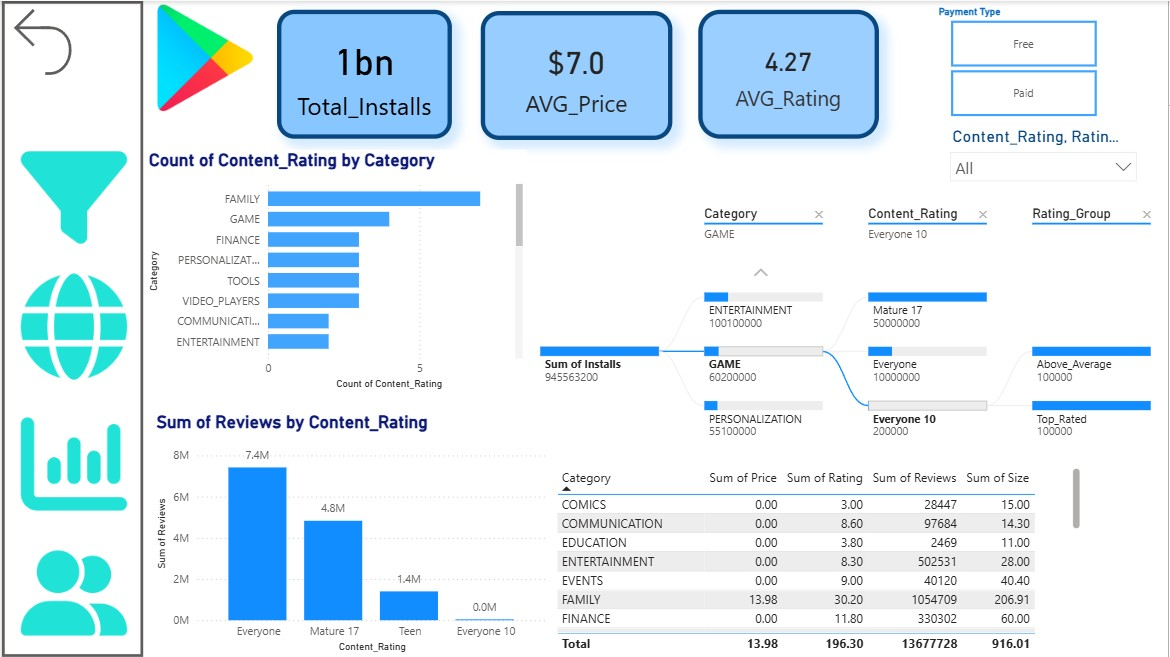

The dashboard page shown, as its layout file describes it:
{"tool":"powerbi","page":{"name":"Page 1","canvas":[1280,720],"ordinal":0},"visuals":[{"type":"card","fields":{"Values":["Measures1.Total_Installs"]},"box":[301.7,10,191.7,141.7],"z":0},{"type":"card","fields":{"Values":["Measures1.AVG_Price"]},"box":[525.7,11.4,210,141.4],"z":1000},{"type":"card","fields":{"Values":["Measures1.AVG_Rating"]},"box":[765,10,198.3,141.7],"z":2000},{"type":"slicer","fields":{"Values":["PS_Data.Type"]},"box":[1015,0,210,133.3],"z":3000},{"type":"slicer","fields":{"Values":["PS_Data.Content_Rating","PS_Data.Rating_Group"]},"box":[1030,133.3,225,75],"z":4000},{"type":"tableEx","fields":{"Values":["PS_Data.Category","Sum(PS_Data.Price)","Sum(PS_Data.Rating)","Sum(PS_Data.Reviews)","Sum(PS_Data.Size)"]},"box":[603.3,508.3,585,211.7],"z":5000},{"type":"actionButton","box":[0,0,155,720],"z":6000},{"type":"image","box":[165,0,116.7,125],"z":7000},{"type":"image","box":[20,598.3,116.7,103.3],"z":8000},{"type":"image","box":[20,451.7,116.7,113.3],"z":9000},{"type":"image","box":[20,295,116.7,125],"z":10000},{"type":"image","box":[20,163.3,116.7,105],"z":11000},{"type":"actionButton","box":[0,0,136.7,90],"z":12000},{"type":"decompositionTreeVisual","fields":{"Analyze":["Sum(PS_Data.Installs)"],"ExplainBy":["PS_Data.Category","PS_Data.Content_Rating","PS_Data.Rating_Group"]},"box":[561.7,208.3,705,275],"z":13000},{"type":"columnChart","fields":{"Y":["Sum(PS_Data.Reviews)"],"Category":["PS_Data.Content_Rating"]},"box":[165,451.7,438.3,268.3],"z":14000},{"type":"barChart","fields":{"Category":["PS_Data.Category"],"Y":["CountNonNull(PS_Data.Content_Rating)"]},"box":[156.7,163.3,420,268.3],"z":15000}]}

Visuals, with their boxes on the page's 1280x720 design canvas (x1, y1, x2, y2). These are canvas units, not pixel positions in the 1170x657 screenshot, which may show the page scaled, cropped or inside an application window:
card - Measures1.Total_Installs: 302/10/493/152
card - Measures1.AVG_Price: 526/11/736/153
card - Measures1.AVG_Rating: 765/10/963/152
slicer - PS_Data.Type: 1015/0/1225/133
slicer - PS_Data.Content_Rating x PS_Data.Rating_Group: 1030/133/1255/208
tableEx - PS_Data.Category x Sum(PS_Data.Price): 603/508/1188/720
actionButton: 0/0/155/720
image: 165/0/282/125
image: 20/598/137/702
image: 20/452/137/565
image: 20/295/137/420
image: 20/163/137/268
actionButton: 0/0/137/90
decompositionTreeVisual - Sum(PS_Data.Installs) x PS_Data.Category: 562/208/1267/483
columnChart - Sum(PS_Data.Reviews) x PS_Data.Content_Rating: 165/452/603/720
barChart - PS_Data.Category x CountNonNull(PS_Data.Content_Rating): 157/163/577/432
